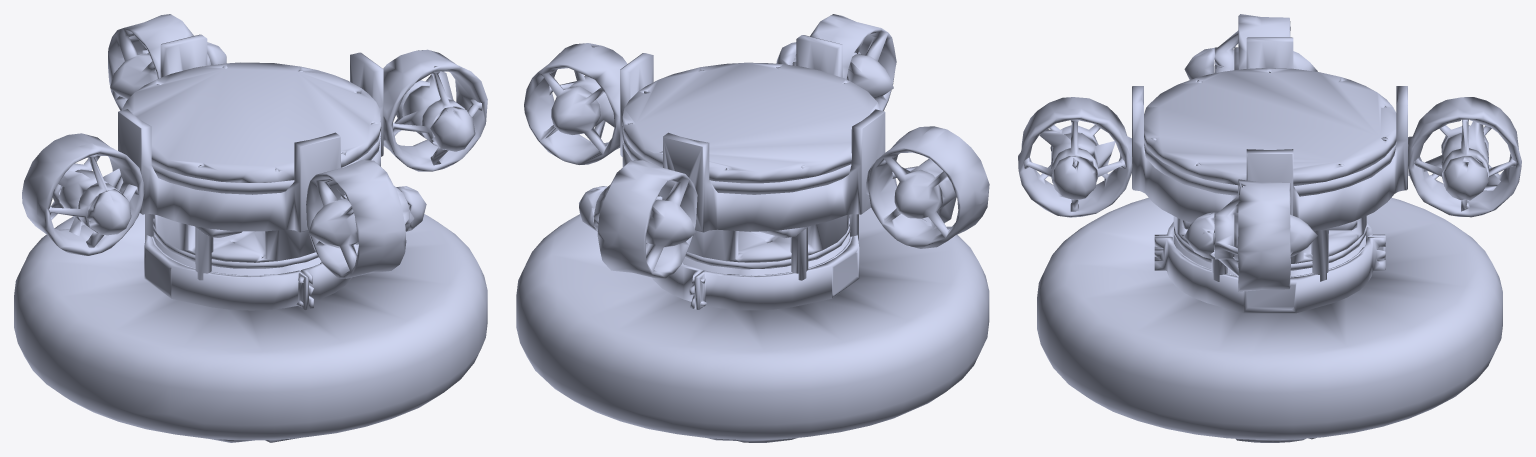
Rendered from gtbot_phy.obj.
3 renders of one model, left to right at view 1: azimuth 30°, elevation 25°; view 2: azimuth 150°, elevation 25°; view 3: azimuth 270°, elevation 25°, orthographic.
Bounding box in the file's own units: 43.13 × 29 × 43.19.
